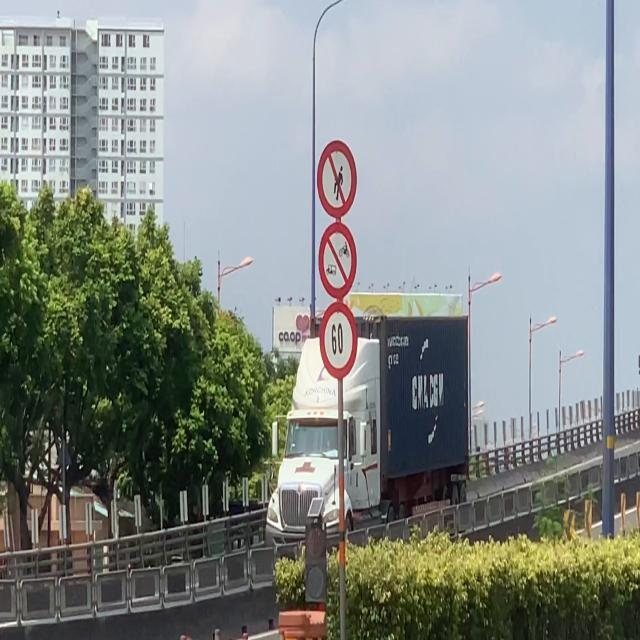Cam con lai: (316, 139, 358, 217), (318, 222, 358, 299)
Toc do toi da: (319, 304, 361, 379)
